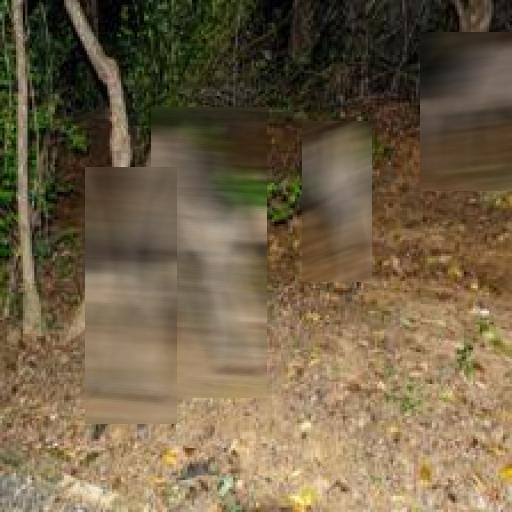Pig: (151, 107, 267, 398), (85, 167, 177, 424), (420, 32, 512, 191), (302, 121, 372, 282)
